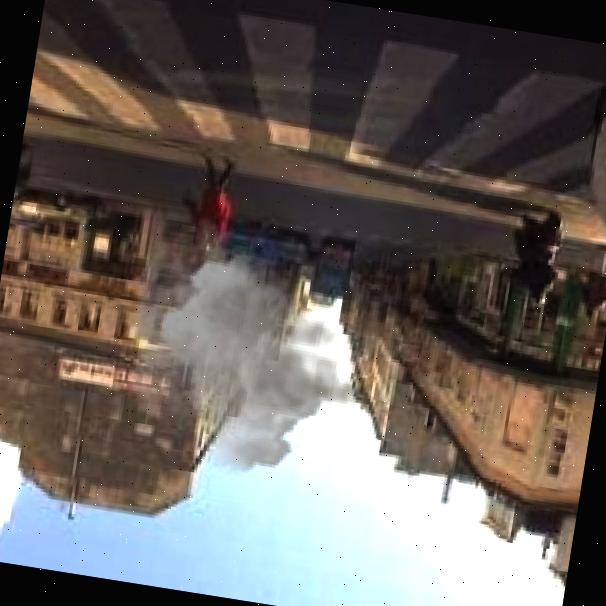smoke: (104, 204, 397, 495)
